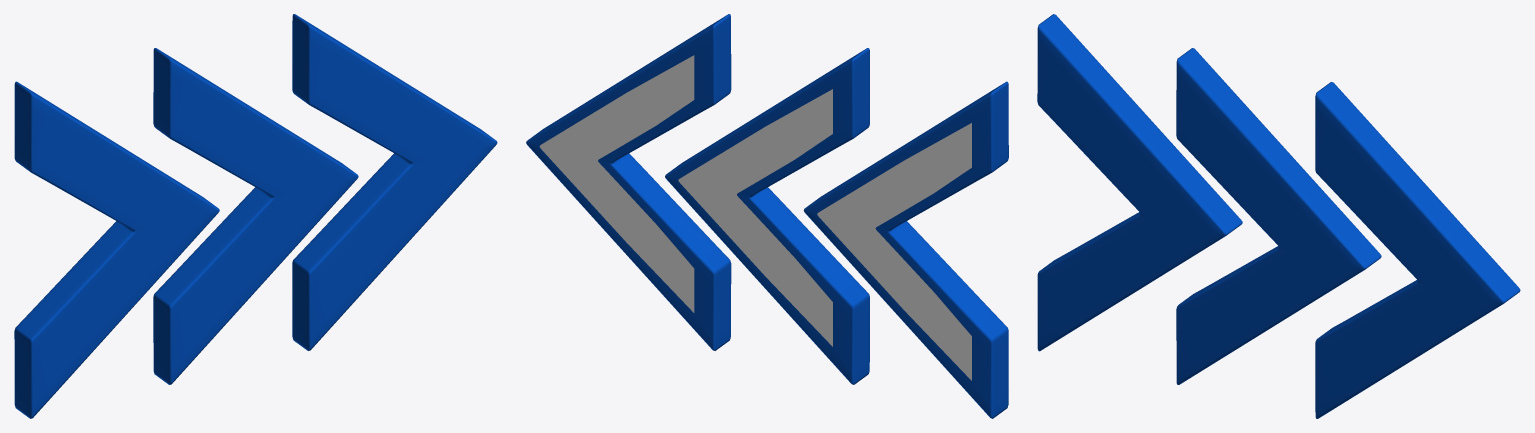
The model's file is Arrow.fbx.
The picture shows the model from 3 angles, left to right: view 1: azimuth 30°, elevation 25°; view 2: azimuth 150°, elevation 25°; view 3: azimuth 330°, elevation 25°; orthographic projection.
Parts seen in each view (by area): view 1: Arrow; view 2: Arrow; view 3: Arrow.
Boxes of the visible parts, x1=… form: Arrow: x1=14, y1=14, x2=497, y2=418; Arrow: x1=526, y1=14, x2=1008, y2=418; Arrow: x1=1037, y1=14, x2=1520, y2=418.
Size of the model in its own units: 0.0995 by 0.00643 by 0.0664.
